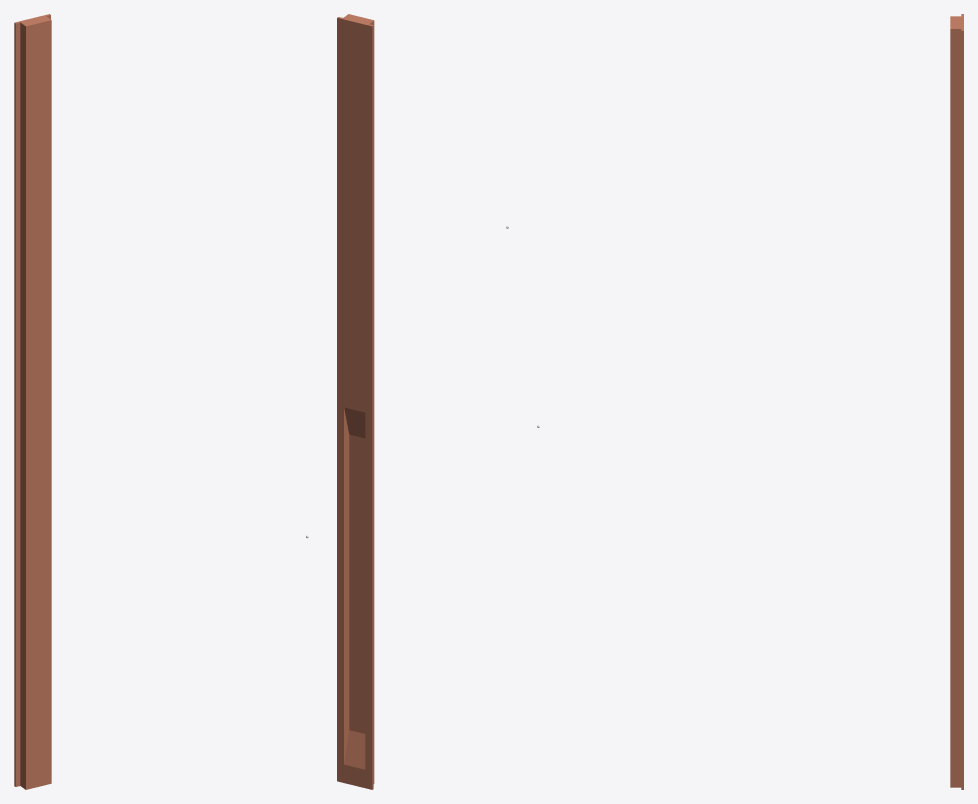
Rendered from 180 pvd r gold.glb.
3 views of the same model, side by side, from view 1: azimuth 30°, elevation 25°; view 2: azimuth 150°, elevation 25°; view 3: azimuth 270°, elevation 25° (orthographic).
Parts seen in each view (by area): view 1: CONCEAL HANDLE_180; view 2: CONCEAL HANDLE_180; view 3: CONCEAL HANDLE_180.
Boxes of the visible parts, x1,y1,x2,y2 form: CONCEAL HANDLE_180: [14, 14, 51, 789]; CONCEAL HANDLE_180: [337, 14, 374, 789]; CONCEAL HANDLE_180: [950, 14, 963, 789].
Bounding box in the file's own units: 2.16 × 19.73 × 10.05.
